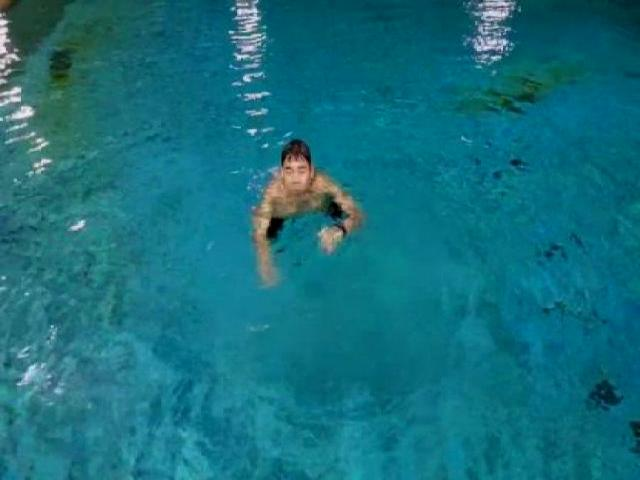swimming: (246, 130, 366, 282)
